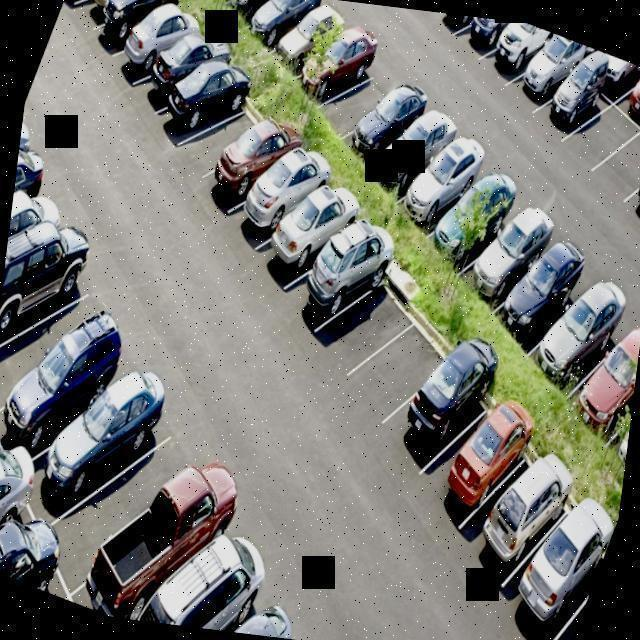empty: (40, 365, 233, 616), (0, 240, 123, 432), (329, 293, 454, 455), (301, 252, 423, 410), (166, 69, 277, 208), (313, 42, 407, 161), (550, 68, 640, 192), (582, 102, 640, 213)
occupied: (74, 422, 273, 634), (27, 324, 198, 545), (0, 276, 150, 489), (458, 418, 591, 604), (0, 192, 117, 393), (382, 315, 515, 489), (213, 117, 349, 285), (135, 505, 305, 639), (272, 203, 410, 358), (497, 472, 622, 640), (421, 371, 543, 541), (248, 162, 369, 317), (521, 247, 636, 410), (119, 1, 241, 149), (484, 214, 597, 371), (0, 163, 97, 343), (193, 92, 313, 234), (416, 143, 530, 290), (146, 35, 258, 177), (99, 0, 220, 123), (392, 118, 494, 256), (451, 176, 551, 316), (283, 0, 386, 133), (365, 85, 464, 218), (340, 60, 441, 188), (563, 288, 640, 454), (532, 49, 624, 164), (3, 131, 65, 288), (80, 0, 198, 81), (264, 0, 363, 96), (192, 574, 335, 640), (0, 490, 87, 598), (505, 24, 598, 125), (538, 533, 608, 640), (0, 440, 52, 580), (64, 0, 171, 59), (477, 18, 558, 95), (601, 342, 640, 497), (248, 0, 340, 57), (219, 0, 312, 39), (456, 15, 520, 67), (55, 0, 139, 37), (617, 113, 640, 241), (605, 60, 640, 141), (192, 0, 281, 22), (0, 394, 9, 560), (61, 0, 121, 15)
